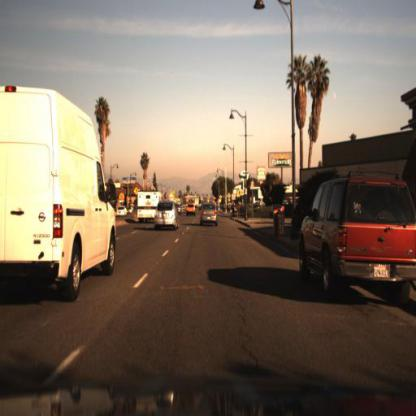car: (2, 64, 120, 309), (299, 169, 416, 299), (132, 178, 164, 229), (154, 191, 181, 229), (200, 199, 221, 225), (185, 195, 202, 219), (183, 199, 199, 222)
truck: (2, 79, 123, 304), (134, 187, 163, 224)
